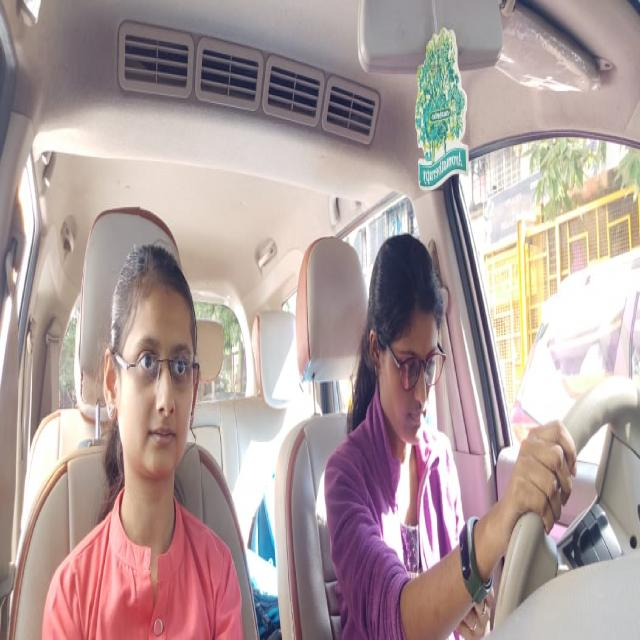person: (104, 241, 206, 496), (365, 235, 446, 446)
